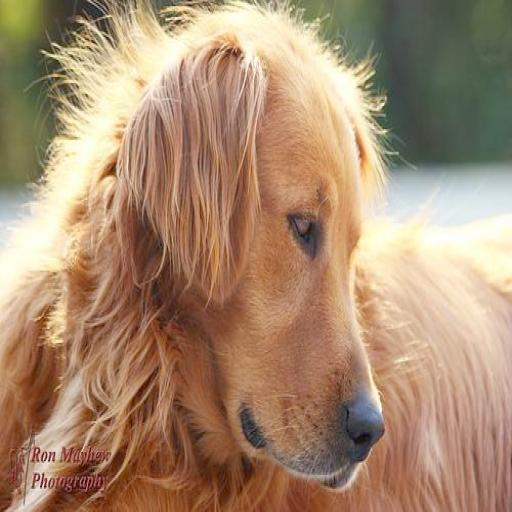dog_face: (152, 45, 385, 490)
